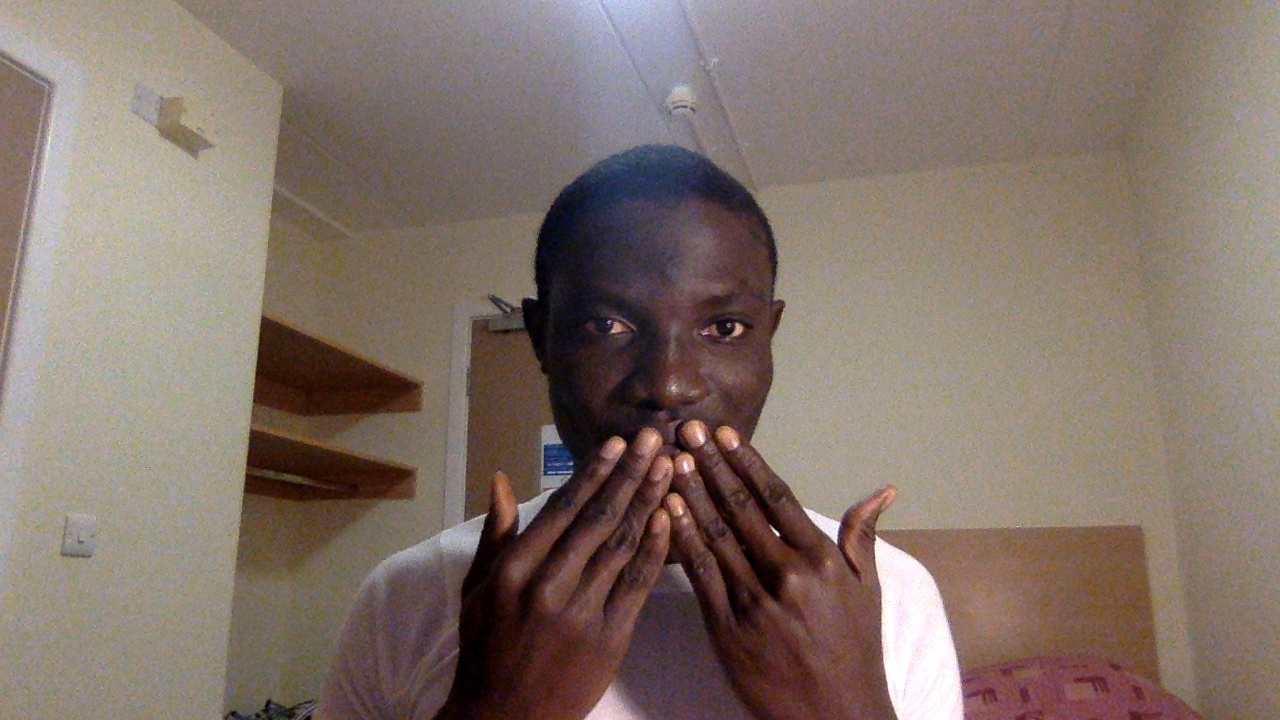Thank You: (454, 407, 905, 720)
